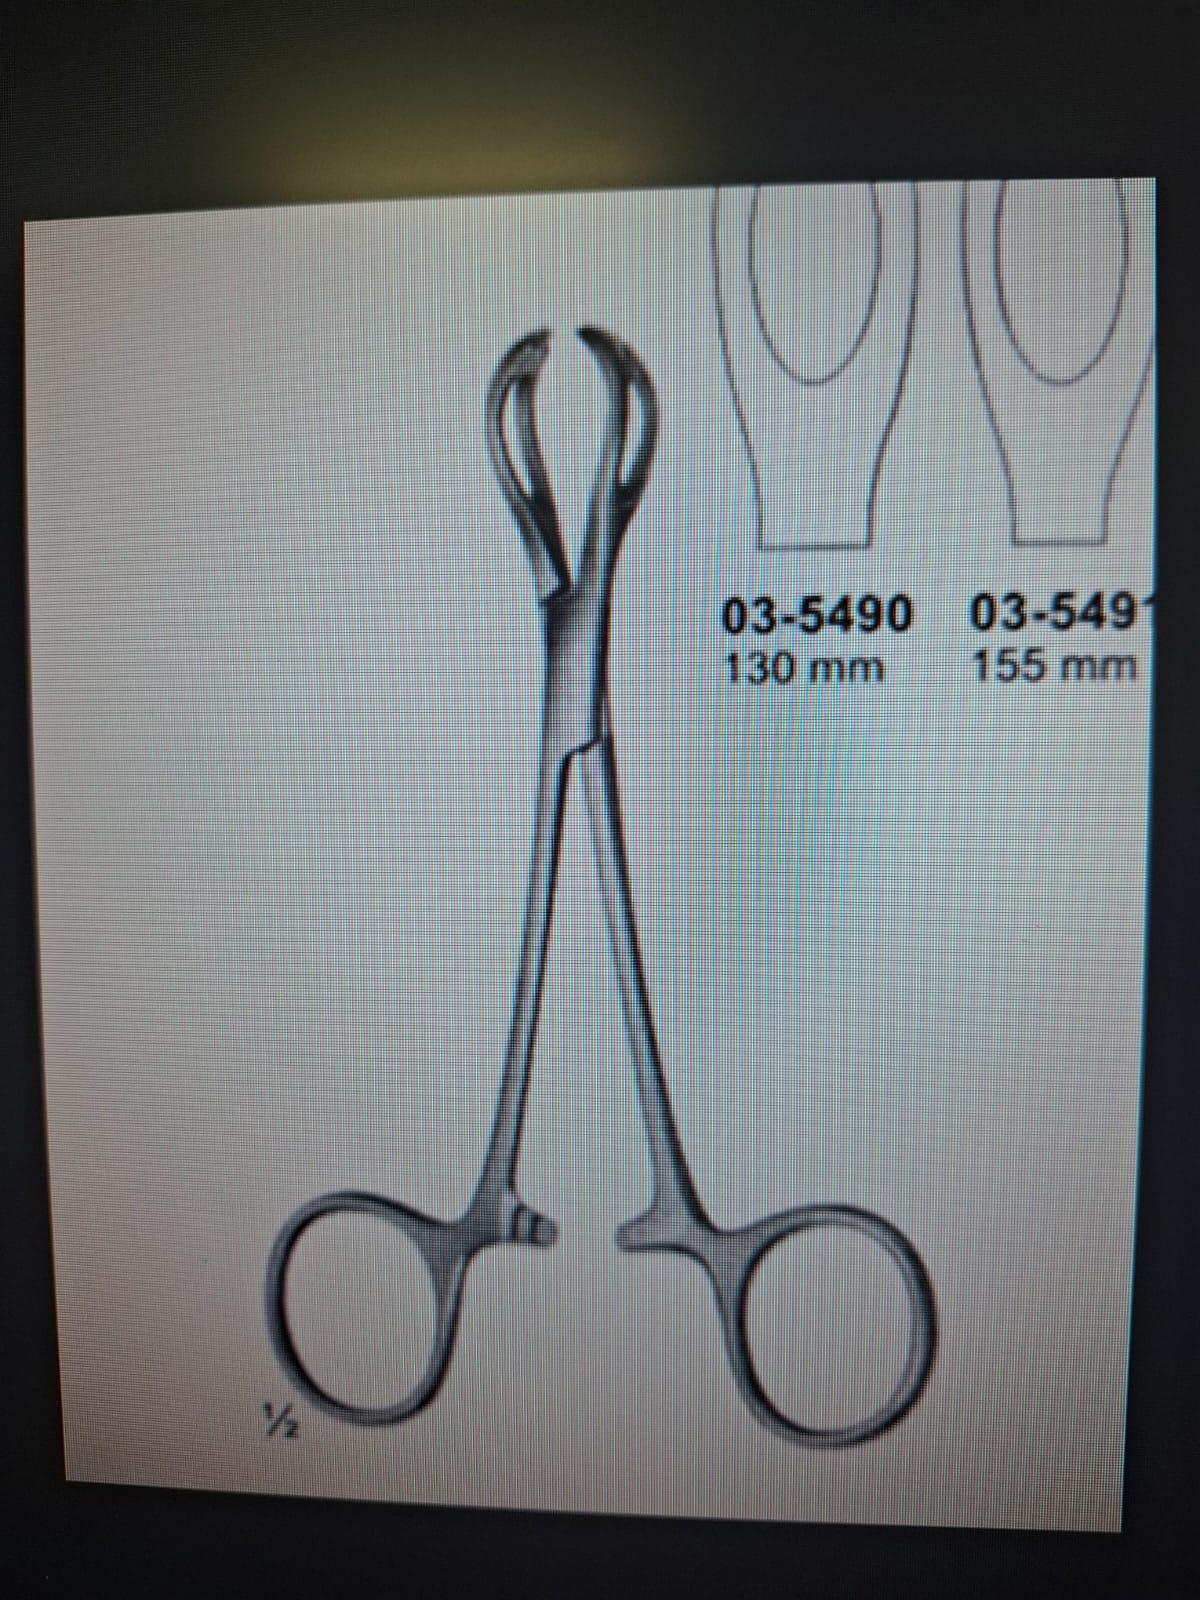Lane Tissue Forceps: (252, 325, 958, 1445)
